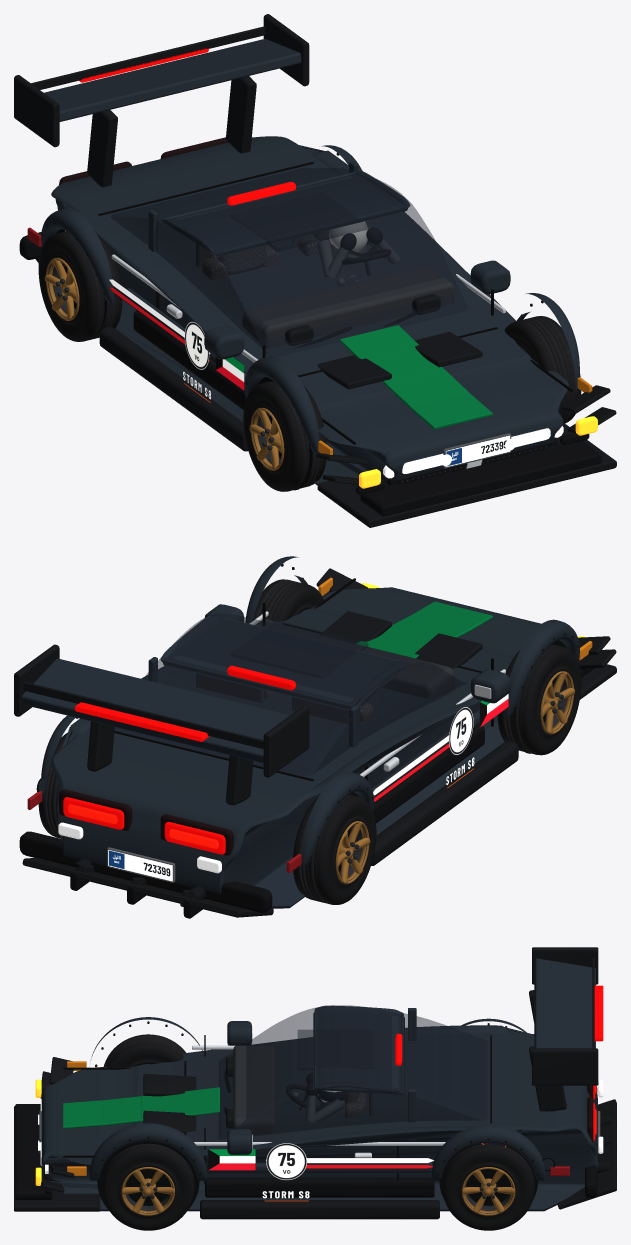
File: storm-s8.glb
3 views of the same model, one above another, from view 1: azimuth 30°, elevation 25°; view 2: azimuth 150°, elevation 25°; view 3: azimuth 270°, elevation 25° (orthographic). The views are drawn at different scales.
Parts seen in each view (by area): view 1: object 1, object 2, wing, object 3, object 121, object 113, object 25, object 60, object 28, object 165, object 156, object 44 (+23 smaller); view 2: object 1, object 2, wing, object 3, object 60, object 25, object 28, object 165, tail-lamps, object 92, object 121, object 167 (+27 smaller); view 3: object 1, object 2, wing, object 3, object 166, object 108, object 44, object 76, object 121, object 25, object 50, object 113 (+26 smaller).
Boxes of the visible parts, x1,y1,x2,y2 form: object 1: (51, 136, 568, 485); object 2: (111, 167, 467, 357); wing: (14, 14, 309, 147); object 3: (161, 171, 410, 256); object 121: (242, 266, 454, 348); object 113: (360, 441, 601, 516); object 25: (231, 192, 368, 251); object 60: (38, 231, 122, 341); object 28: (243, 381, 326, 491); object 165: (99, 327, 248, 451); object 156: (317, 423, 616, 527); object 44: (504, 316, 581, 423); object 1: (51, 587, 541, 908); object 2: (114, 613, 467, 776); wing: (14, 644, 309, 777); object 3: (160, 615, 409, 710); object 60: (293, 794, 376, 904); object 25: (231, 620, 368, 678); object 28: (497, 645, 581, 755); object 165: (371, 741, 518, 865); tail-lamps: (59, 789, 233, 855); object 92: (19, 831, 272, 913); object 121: (263, 623, 454, 698); object 167: (22, 857, 273, 917); object 1: (41, 1025, 597, 1211); object 2: (218, 1005, 487, 1139); wing: (532, 947, 603, 1085); object 3: (313, 1005, 404, 1094); object 166: (200, 1200, 439, 1219); object 108: (205, 1177, 434, 1197); object 44: (102, 1143, 194, 1230); object 76: (442, 1144, 534, 1230); object 121: (233, 1045, 275, 1134); object 25: (297, 1029, 373, 1070); object 50: (89, 1123, 206, 1180); object 113: (15, 1104, 52, 1199).
Size of the model in its own units: 2.25 by 1.55 by 4.8.
47 materials, 10 textured.
